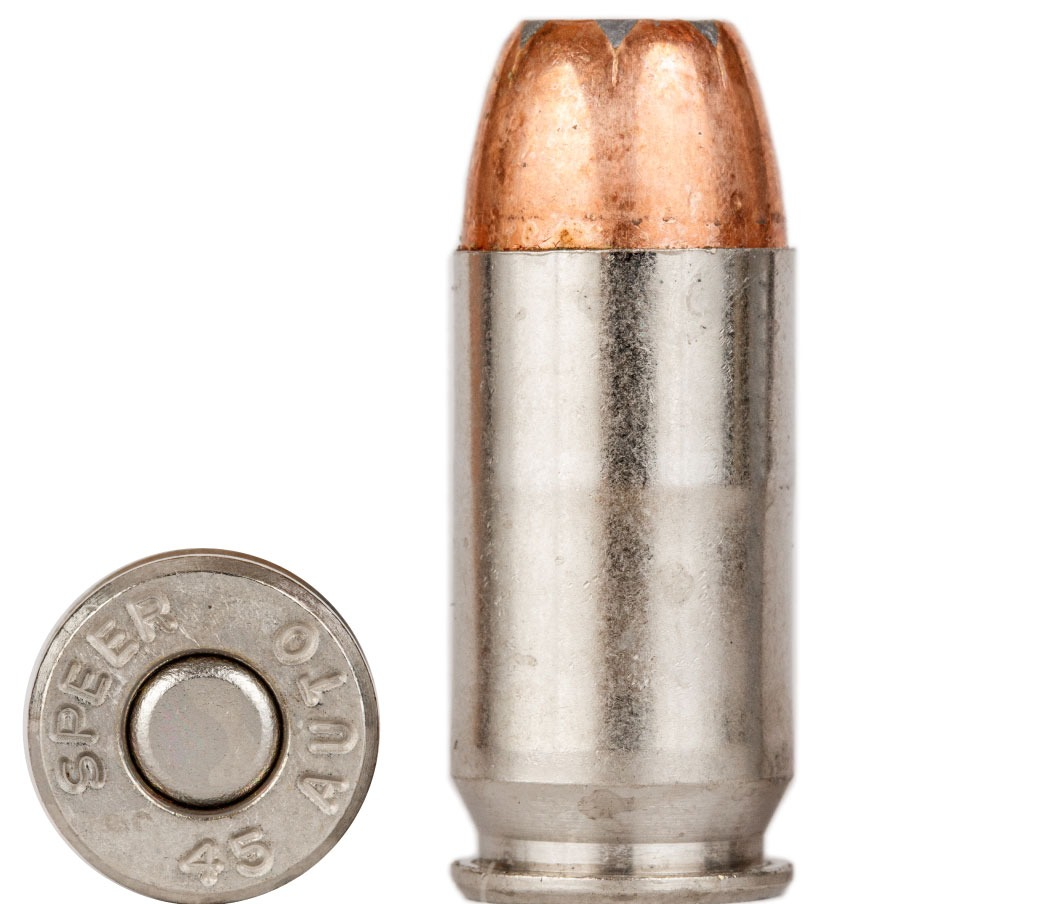bullet: (440, 12, 799, 901)
